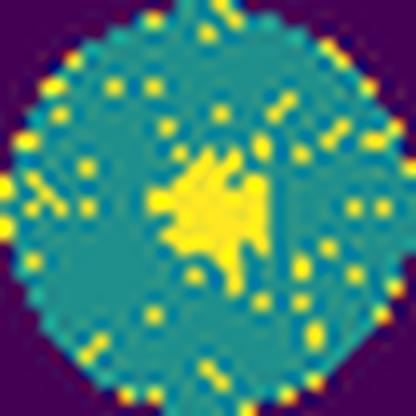Center: (150, 147, 270, 295)
